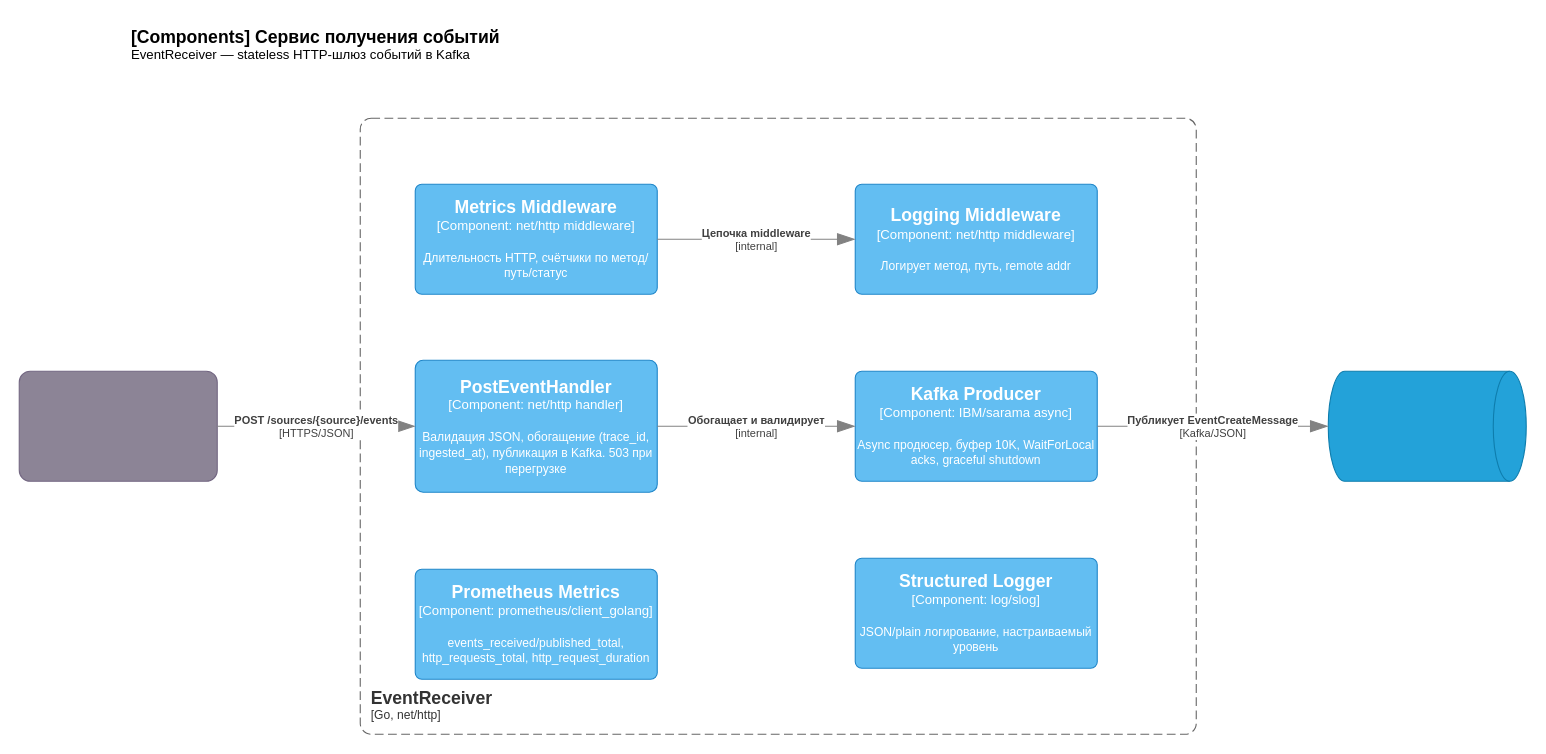
The diagram is 1546 pixels wide and 754 high, and some of its shapes have lost their labels. Each missing label, with the centre of its shape:
Kafka routing.requests [Container: Apache Kafka] Топик событий на маршрутизацию: (1426,425)
Система продюсера [Software System] Внешний источник событий: (117,425)
